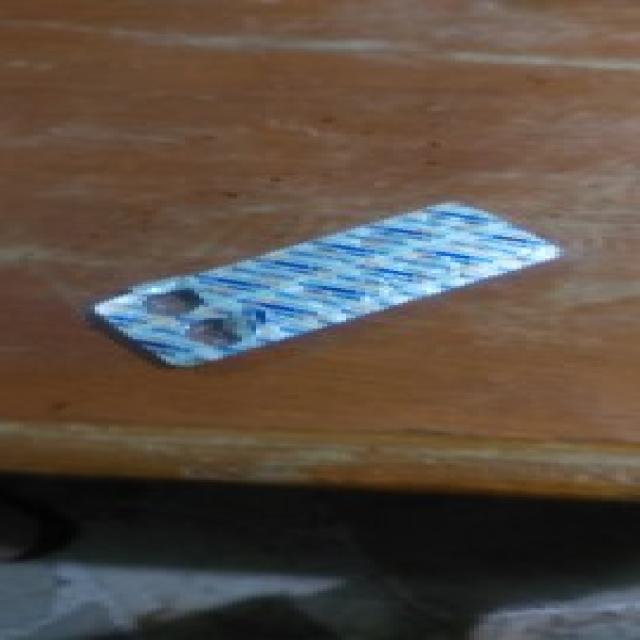Cacat: (91, 204, 576, 372)
Kemasan: (141, 282, 263, 350)
